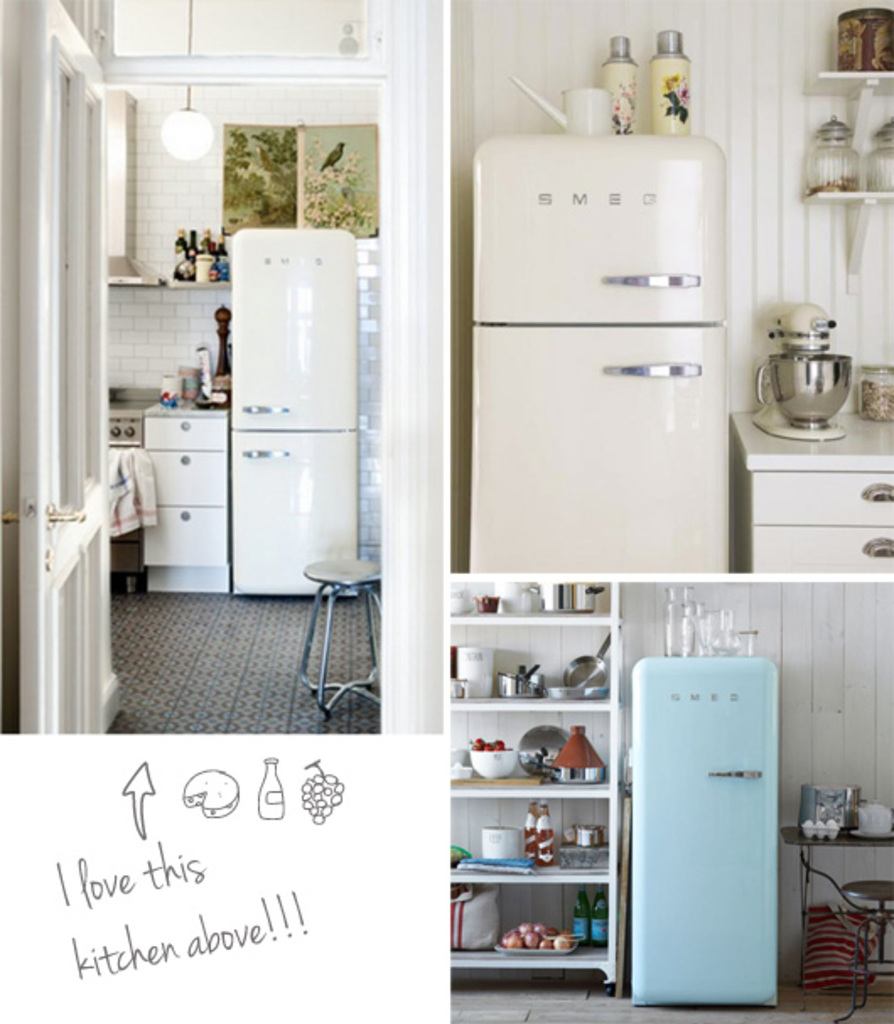cabinet door: (753, 476, 894, 529), (758, 532, 894, 585), (150, 452, 222, 503), (149, 505, 222, 553), (146, 421, 223, 452)
door: (43, 67, 104, 734)
handle: (599, 354, 704, 380), (600, 269, 706, 290), (43, 503, 91, 535), (705, 761, 761, 784), (244, 444, 291, 466), (858, 481, 894, 509), (241, 401, 294, 418), (863, 539, 894, 565), (179, 505, 191, 526), (180, 420, 191, 437), (180, 454, 192, 468)
refrigerator door: (478, 324, 724, 583), (636, 668, 775, 1013), (478, 148, 719, 319), (233, 239, 352, 431), (236, 441, 356, 580)
